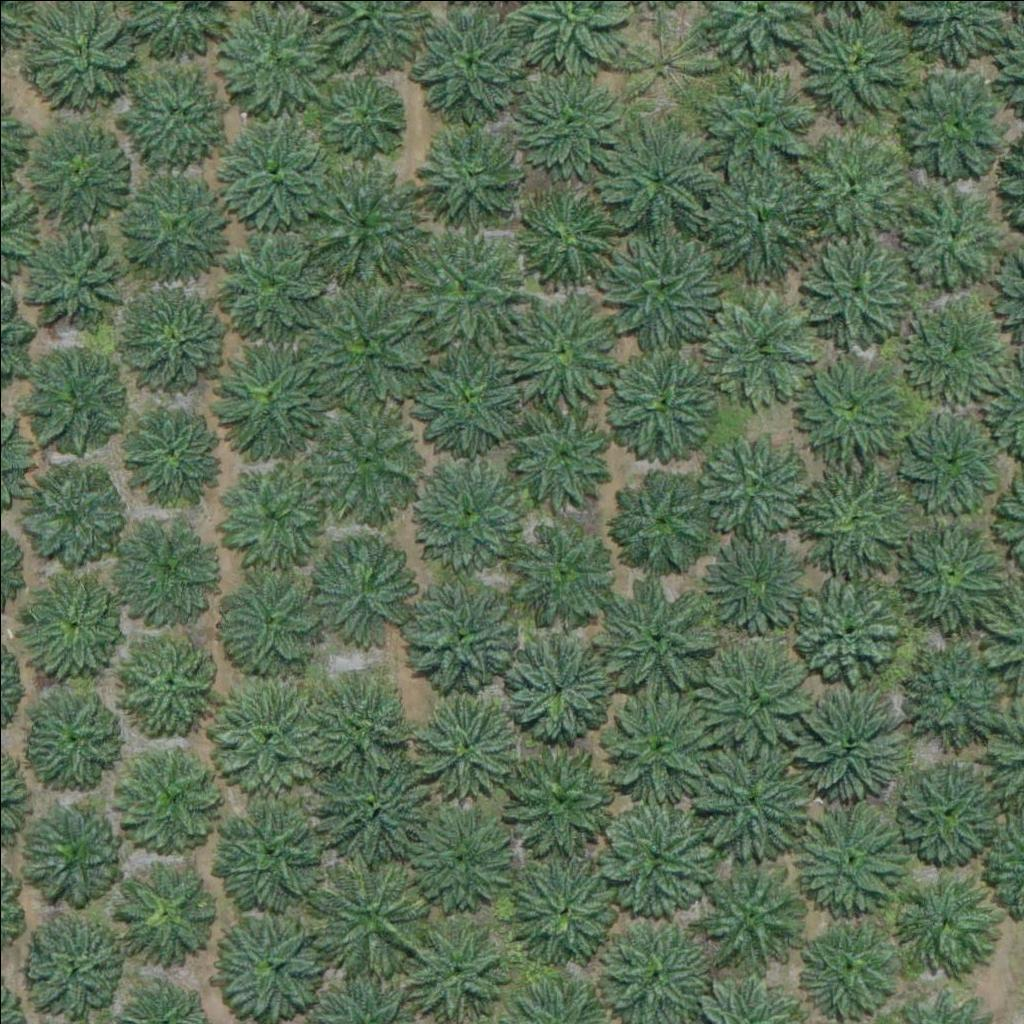Kelapa_Sawit: (210, 666, 335, 792), (793, 449, 918, 575), (783, 339, 908, 465), (214, 214, 339, 340), (300, 157, 425, 283), (798, 231, 923, 357), (212, 456, 325, 570), (308, 534, 421, 648), (219, 343, 332, 457), (507, 294, 620, 408), (412, 4, 525, 118), (310, 865, 423, 978), (318, 752, 431, 865), (409, 687, 522, 800), (690, 853, 803, 966), (696, 740, 809, 853), (797, 806, 910, 919), (697, 632, 810, 745), (603, 689, 716, 802), (311, 400, 424, 513), (498, 395, 611, 508), (605, 349, 718, 462), (599, 574, 712, 687), (703, 529, 816, 642), (20, 109, 133, 222), (118, 279, 231, 392), (117, 166, 230, 279), (903, 294, 1016, 407), (794, 133, 907, 246), (703, 65, 816, 178), (709, 163, 822, 276), (409, 235, 522, 348), (797, 683, 909, 797), (215, 567, 327, 681), (403, 579, 515, 693), (704, 293, 816, 407), (604, 233, 716, 347), (509, 56, 621, 170), (110, 619, 222, 732), (113, 739, 225, 852), (215, 801, 327, 914), (510, 855, 622, 968), (503, 737, 615, 850), (598, 802, 710, 915), (500, 624, 612, 737), (116, 510, 228, 623), (508, 507, 620, 620), (412, 446, 524, 559), (408, 344, 520, 457), (695, 420, 807, 533), (789, 571, 901, 684), (894, 517, 1006, 630), (120, 48, 232, 161), (219, 112, 331, 225), (220, 1, 332, 114), (311, 290, 423, 403), (897, 67, 1009, 180), (890, 182, 1002, 295), (792, 9, 904, 122), (602, 122, 714, 235), (613, 12, 713, 113), (411, 808, 511, 909), (802, 916, 902, 1017), (25, 576, 125, 677), (19, 466, 119, 567), (610, 469, 710, 570), (903, 401, 1003, 502), (30, 344, 130, 445), (19, 227, 119, 328), (18, 913, 118, 1013), (24, 804, 124, 904), (23, 685, 123, 785), (108, 861, 208, 961), (898, 870, 998, 970), (900, 761, 1000, 861), (915, 638, 1015, 738), (117, 396, 217, 496), (518, 186, 618, 286), (419, 128, 519, 228), (330, 76, 405, 152), (327, 686, 402, 761)
